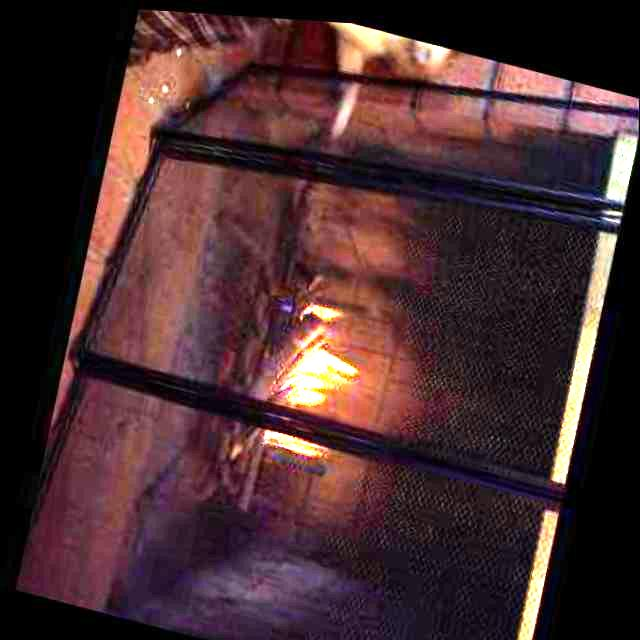fire: (263, 286, 381, 470)
